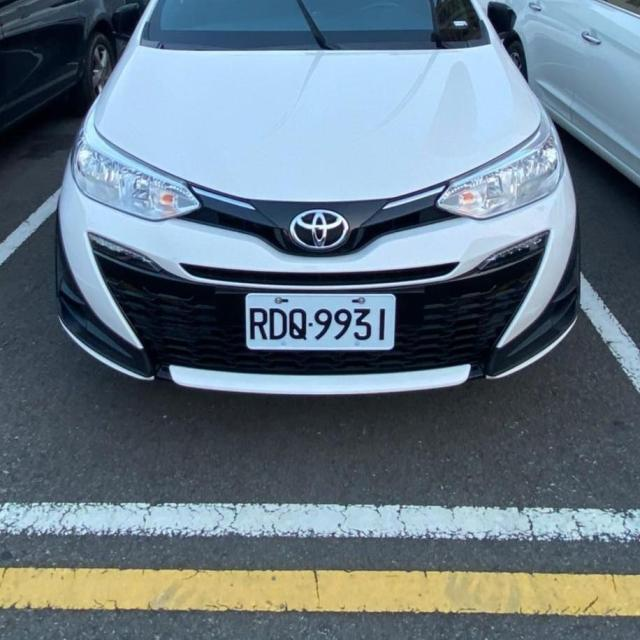W: (245, 291, 394, 351)
